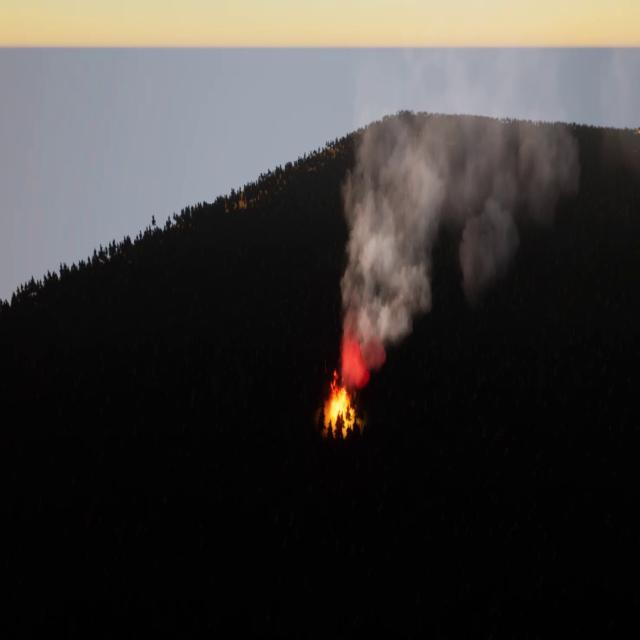fire: (324, 381, 357, 426)
smoke: (342, 59, 581, 391)
